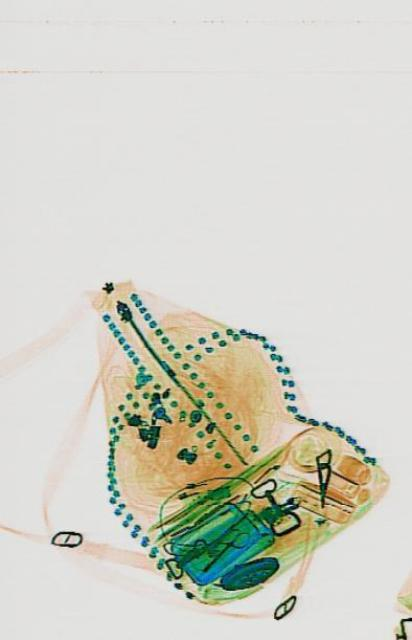Scissors: (194, 515, 248, 583)
